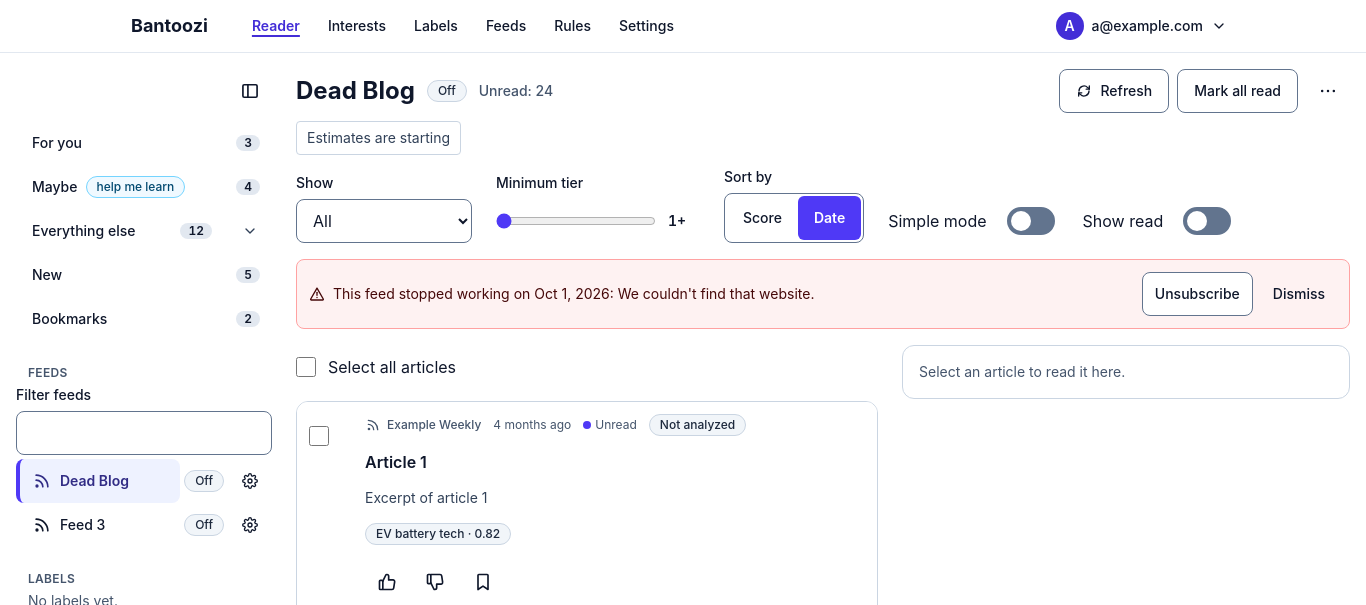
Test case: the focus after unsubscribing in the view of the feed › stays in the page when the question was asked by the notice of the feed
Check: the text "stopped working" is shown, box [333,285,814,302]
Click the button "Unsubscribe".
click(1197, 294)  # box [1142,272,1253,316]
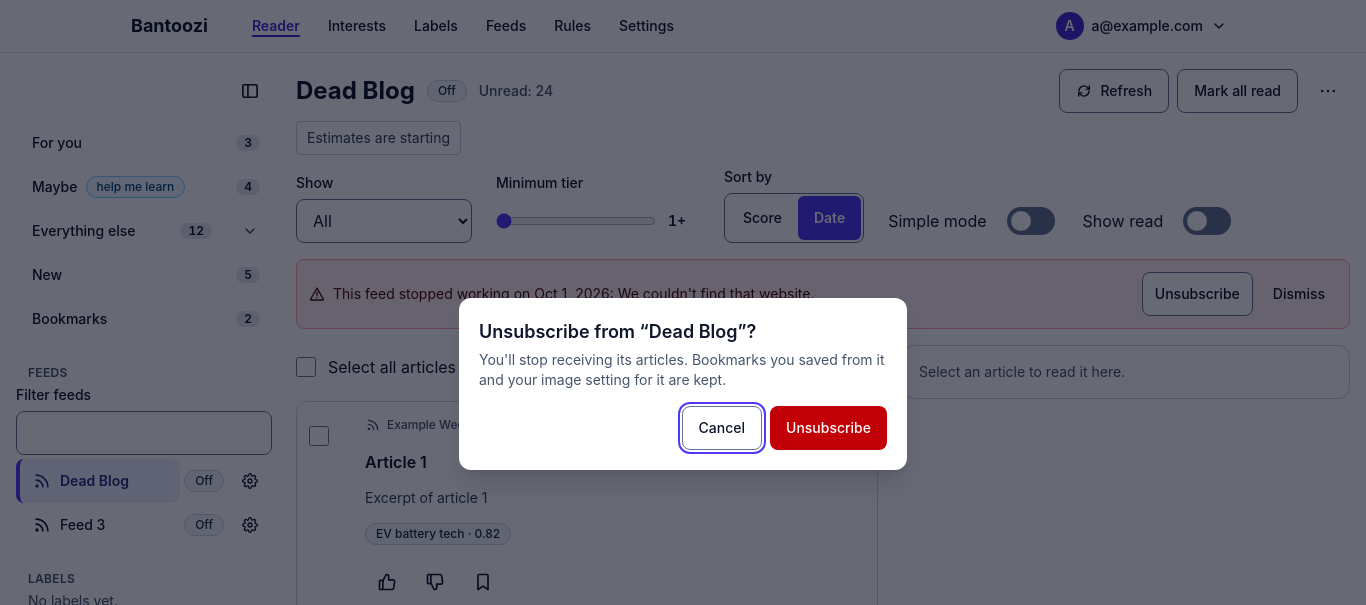
Click the button "Unsubscribe".
click(828, 428)  # box [770,406,887,450]
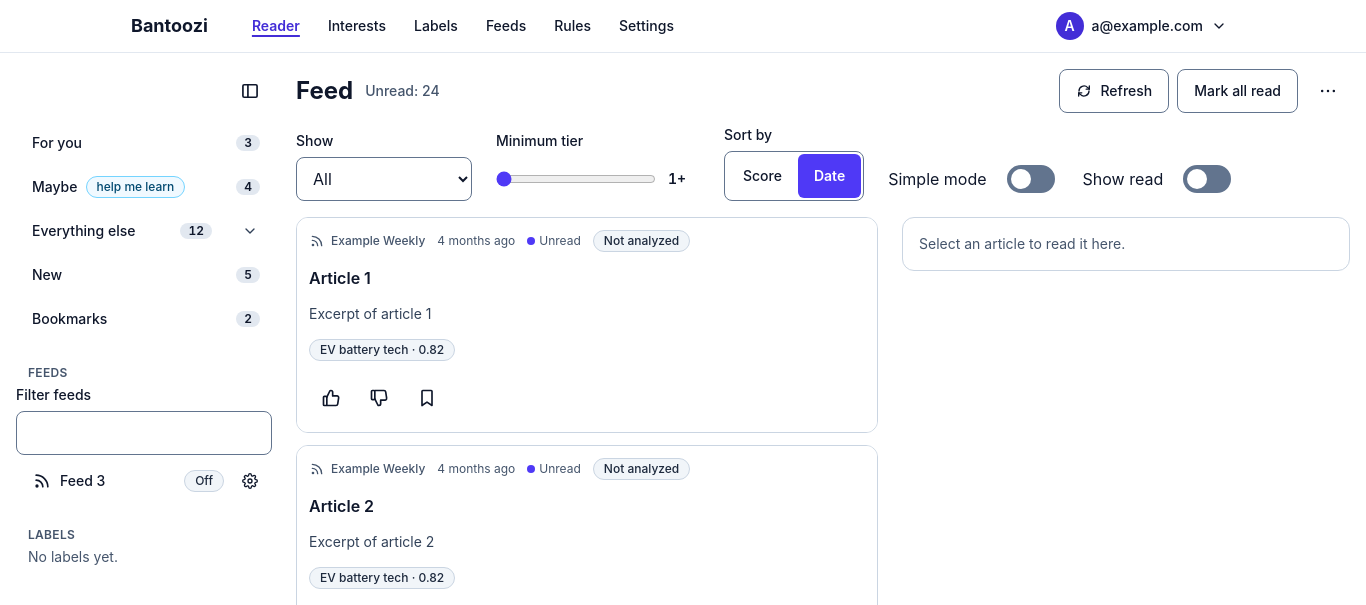
Check: the text "stopped working" is gone
Check: the dialog is gone
